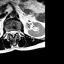CCS_normal: (11, 28, 14, 38)
LFS_normal: (16, 27, 18, 35)
LLS_normal: (14, 27, 16, 36)
RFS_normal: (7, 28, 9, 36)
RLS_normal: (9, 28, 11, 36)
